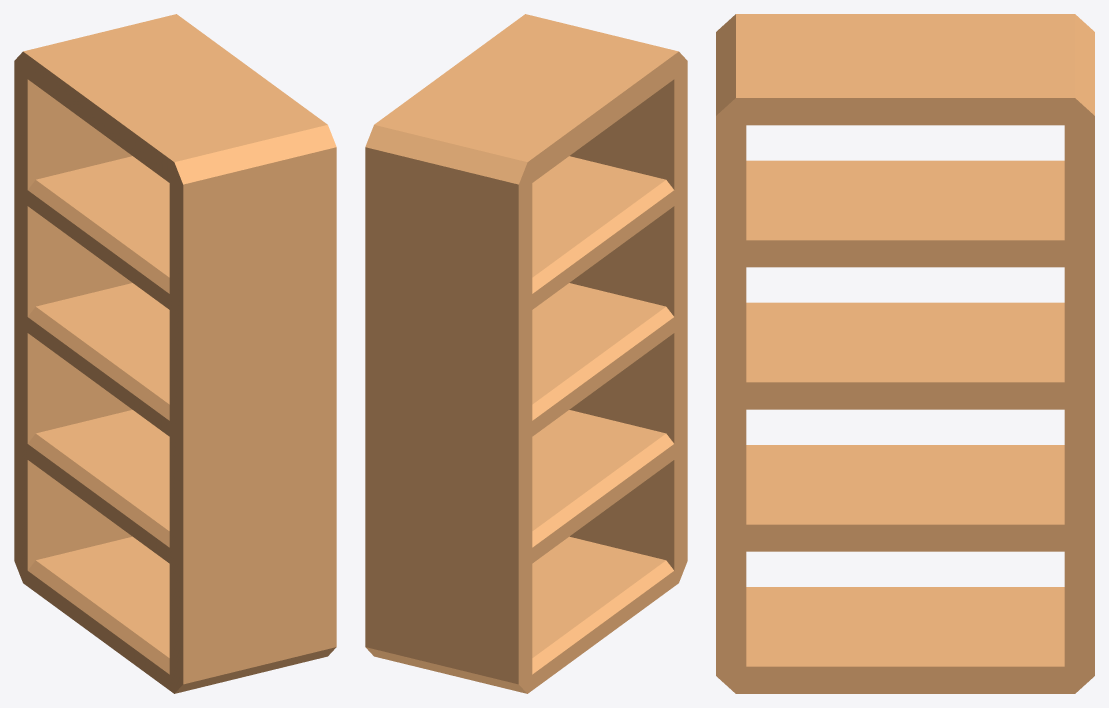
File: Shelf_15.fbx
3 renders of one model, left to right at view 1: azimuth 30°, elevation 25°; view 2: azimuth 150°, elevation 25°; view 3: azimuth 270°, elevation 25°, orthographic. The views are drawn at different scales.
Parts seen in each view (by area): view 1: Shelf_15; view 2: Shelf_15; view 3: Shelf_15.
Part boxes in pixels (x1,y1,x2,y2): Shelf_15: (14, 14, 336, 693); Shelf_15: (365, 14, 687, 693); Shelf_15: (716, 14, 1094, 693).
Bounding box in the file's own units: 0.5487 × 1.82 × 1.05.
